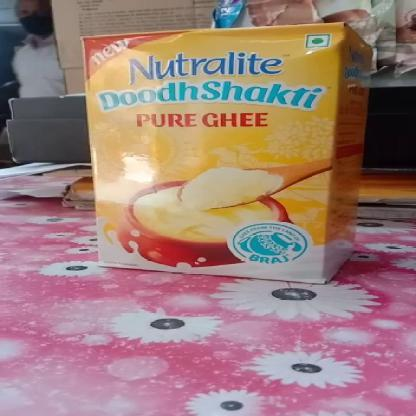Nutralite DOODHSHAKTHI PURE GHEE 1L: (98, 34, 351, 266)
